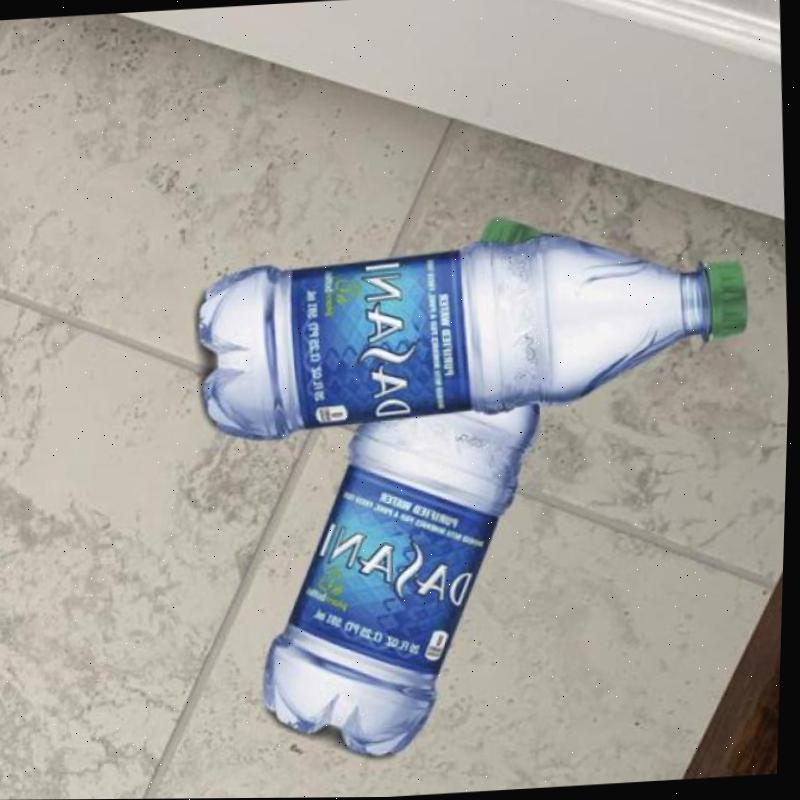botella: (241, 212, 576, 763), (192, 220, 754, 443)
